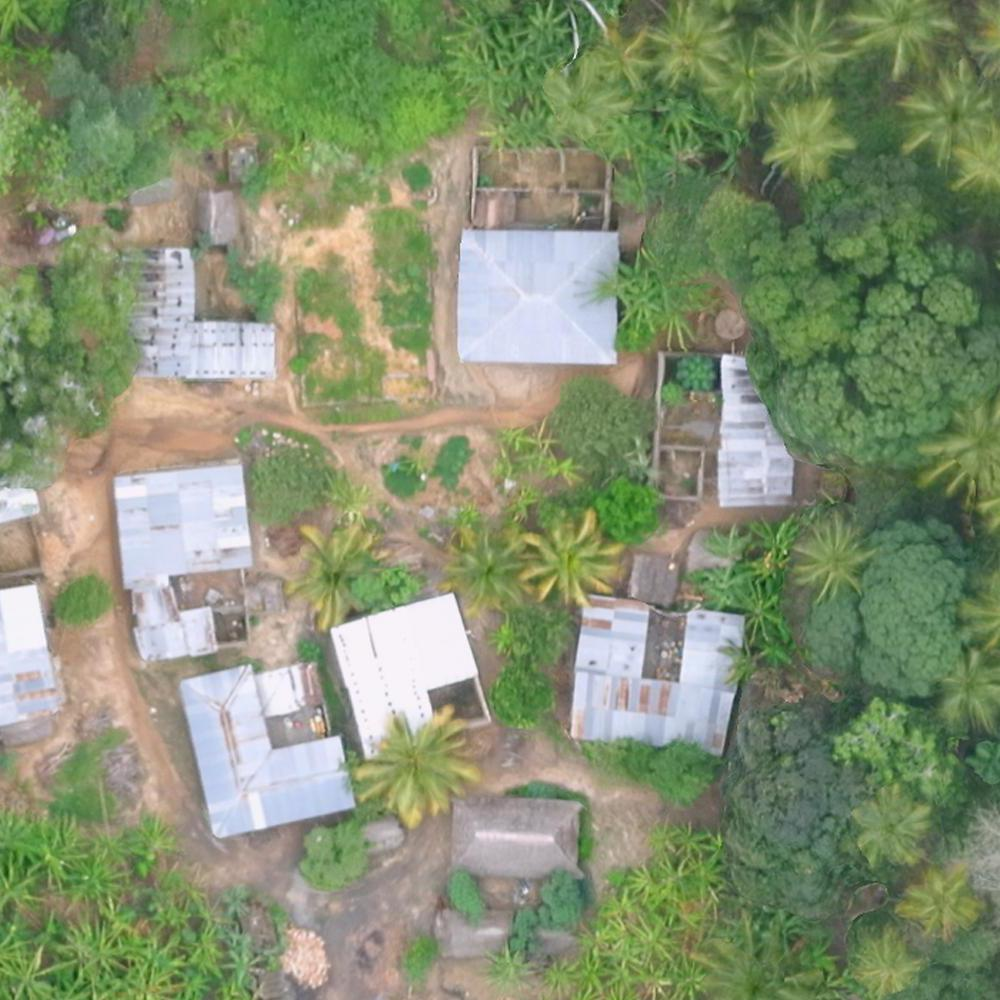Palm: (361, 714, 467, 818), (904, 64, 997, 166), (286, 524, 377, 624), (522, 513, 617, 608), (849, 1, 957, 80), (643, 1, 733, 84), (441, 524, 526, 610), (752, 5, 841, 85), (765, 97, 848, 180), (793, 515, 869, 600), (898, 867, 980, 945), (545, 61, 630, 133), (853, 790, 928, 865), (849, 928, 920, 998)
